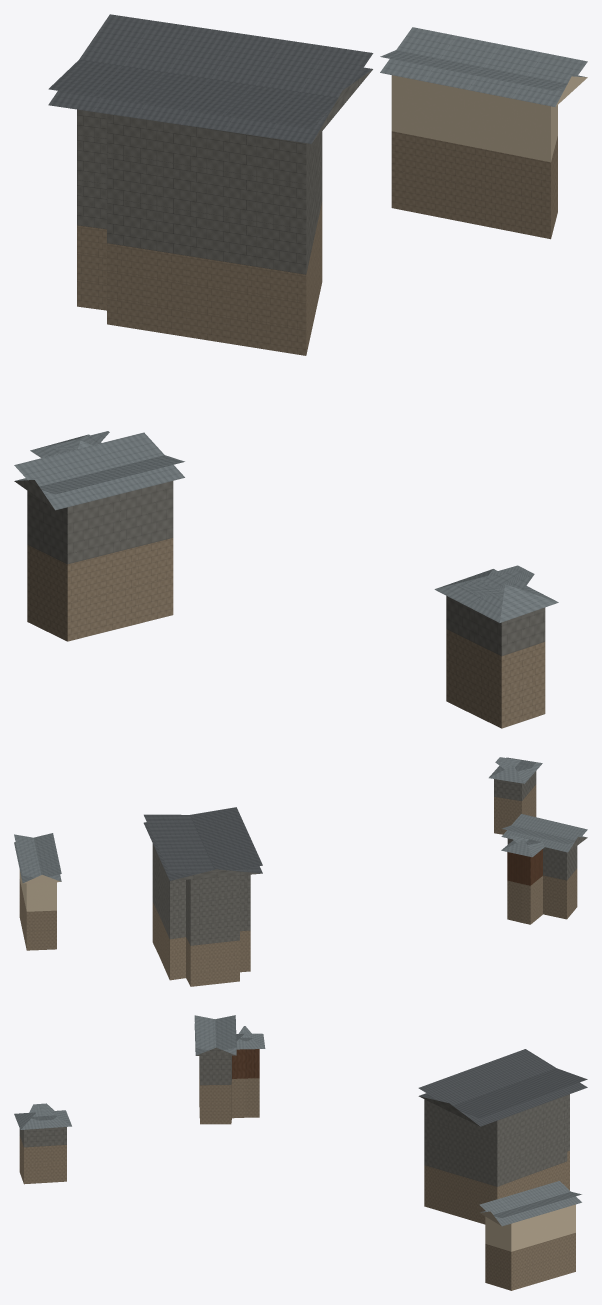
The model's file is bld_c33_46_238.gltf.
3 views of the same model, one above another, from view 1: azimuth 30°, elevation 25°; view 2: azimuth 150°, elevation 25°; view 3: azimuth 270°, elevation 25° (orthographic). The views are drawn at different scales.
Visible parts, largest first — view 1: bld_c33_46_238; view 2: bld_c33_46_238; view 3: bld_c33_46_238.
Boxes of the visible parts, <box> form: bld_c33_46_238: <box>14,14,587,728</box>; bld_c33_46_238: <box>14,757,587,986</box>; bld_c33_46_238: <box>14,1015,587,1290</box>.
Size of the model in its own units: 54.9 by 16.6 by 64.24.
8 materials, 8 textured.
